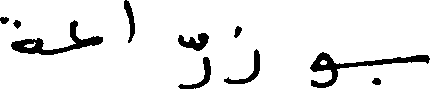ا: (124, 0, 134, 43)
ب: (370, 52, 428, 84)
ة: (0, 14, 39, 53)
ر: (177, 55, 211, 87)
ز: (225, 24, 259, 84)
ل: (68, 17, 100, 50)
و: (309, 50, 338, 87)
